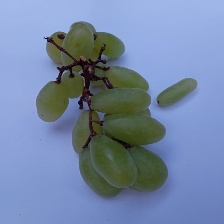grapes: (37, 35, 183, 192)
